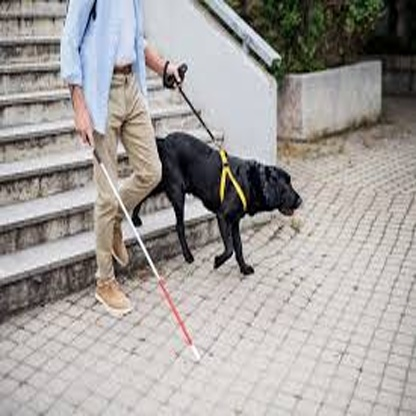guide-dog: (131, 132, 310, 291)
